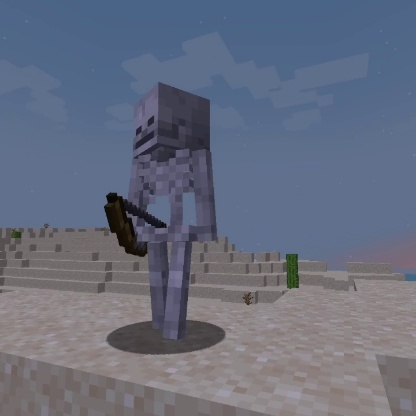skeleton: (99, 77, 222, 347)
